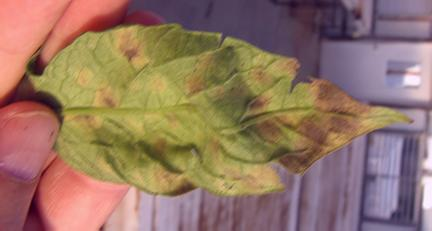Tomato mold leaf: (44, 13, 419, 201)
